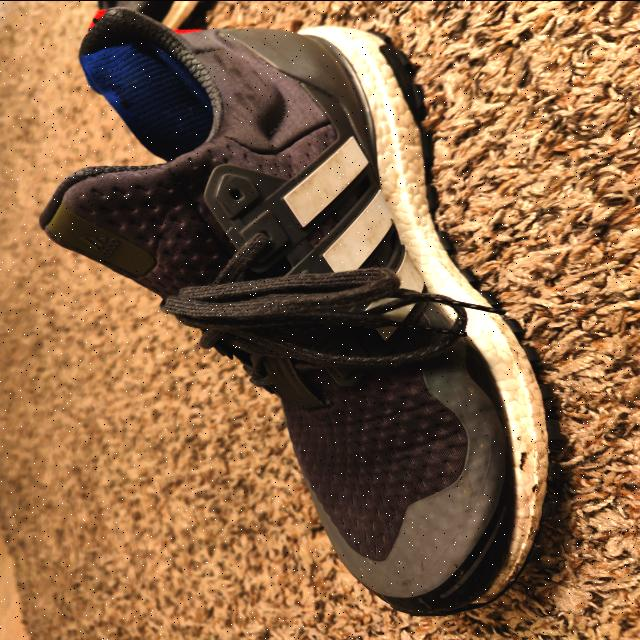black shoes: (36, 0, 579, 617)
